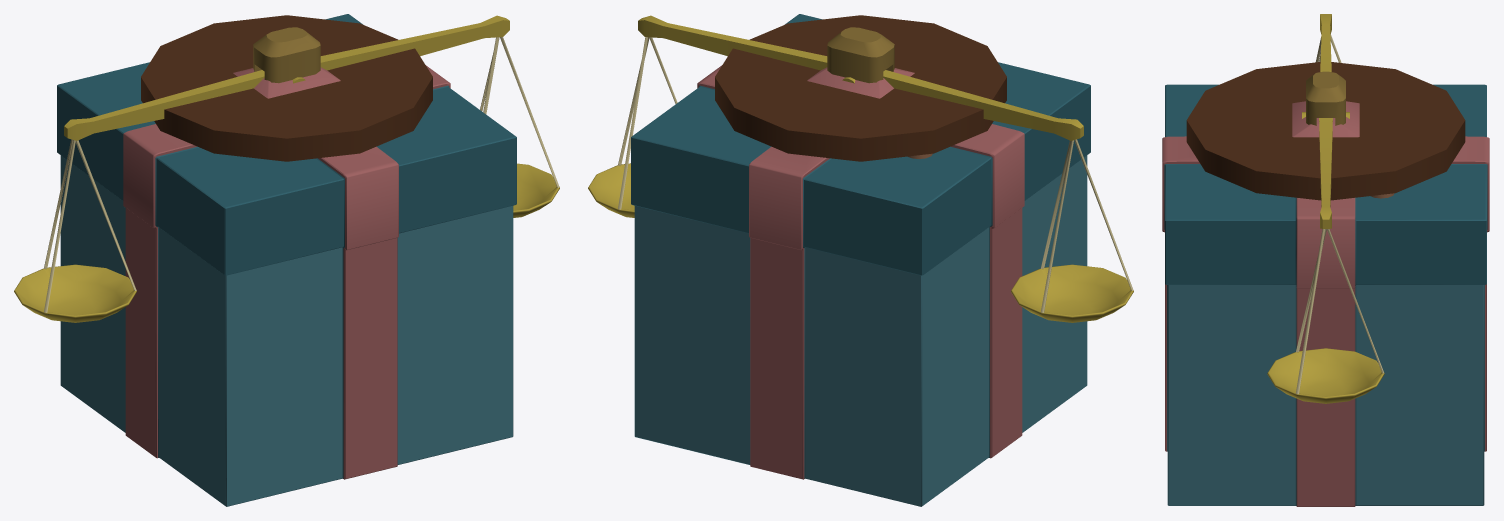
Rendered from Misc.fbx.
The picture shows the model from 3 angles, left to right: view 1: azimuth 30°, elevation 25°; view 2: azimuth 150°, elevation 25°; view 3: azimuth 270°, elevation 25°; orthographic projection. The views are drawn at different scales.
Visible parts, largest first — view 1: Gift01, Hourglass01A, Scales01-Static; view 2: Gift01, Hourglass01A, Scales01-Static; view 3: Gift01, Hourglass01A, Scales01-Static.
Boxes of the visible parts, bbox=[...] form: Gift01: bbox=[57, 14, 516, 506]; Hourglass01A: bbox=[141, 15, 432, 161]; Scales01-Static: bbox=[14, 15, 559, 322]; Gift01: bbox=[631, 14, 1090, 506]; Hourglass01A: bbox=[715, 15, 1006, 161]; Scales01-Static: bbox=[588, 15, 1133, 322]; Gift01: bbox=[1162, 84, 1489, 506]; Hourglass01A: bbox=[1186, 62, 1465, 200]; Scales01-Static: bbox=[1267, 14, 1384, 403].
Size of what is drawn, in the model's own units: 0.757 by 0.5158 by 0.4251.
